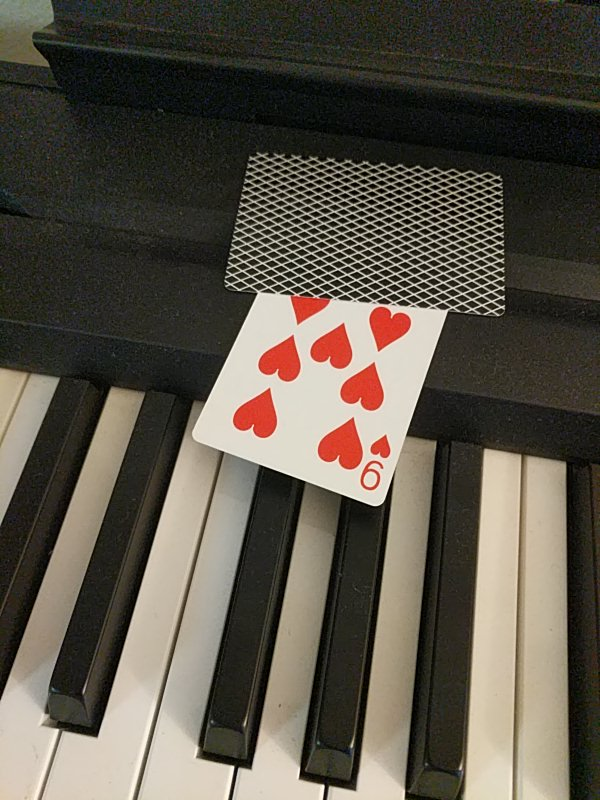Hearts: (192, 283, 448, 508)
